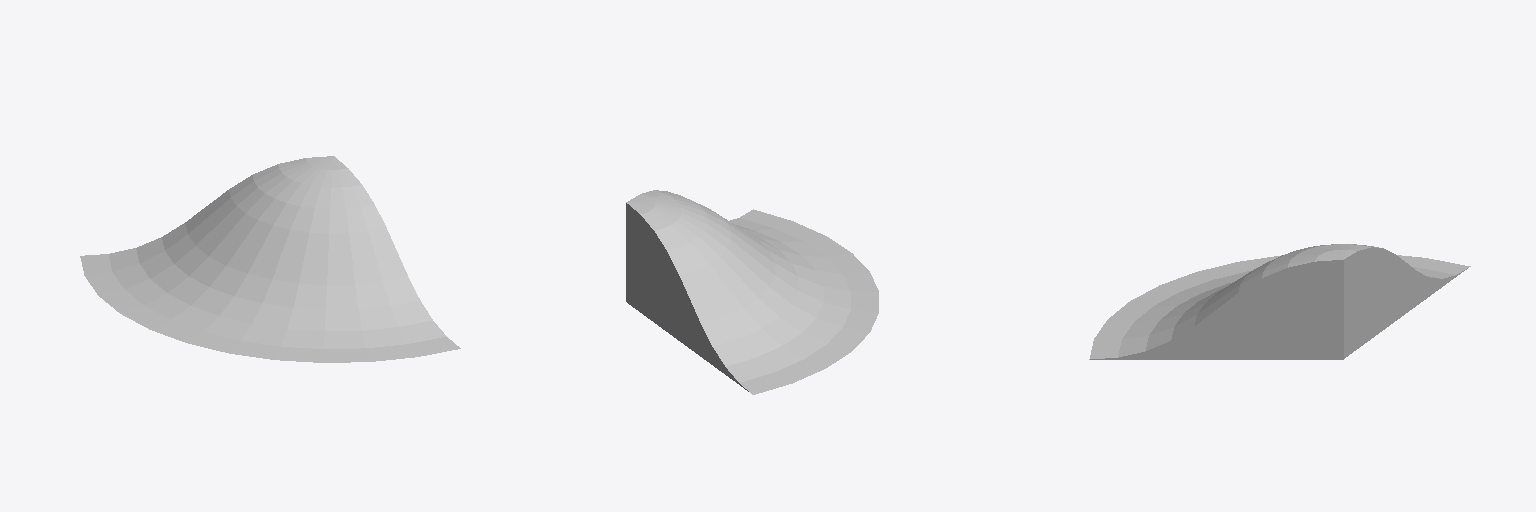
Rendered from Terrain_Grass_Hill_Curve_Outer_Sharp.obj.
3 views of the same model, side by side, from view 1: azimuth 30°, elevation 25°; view 2: azimuth 150°, elevation 25°; view 3: azimuth 270°, elevation 25° (orthographic).
Visible parts, largest first — view 1: object1; view 2: object1; view 3: object1.
Boxes of the visible parts, box(x1,y1,x2,y2) form: object1: box(80, 156, 460, 362); object1: box(626, 190, 878, 394); object1: box(1089, 244, 1470, 359).
Size of the model in its own units: 0.5767 by 0.25 by 0.866.